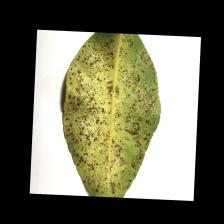canker: (72, 42, 150, 164)
